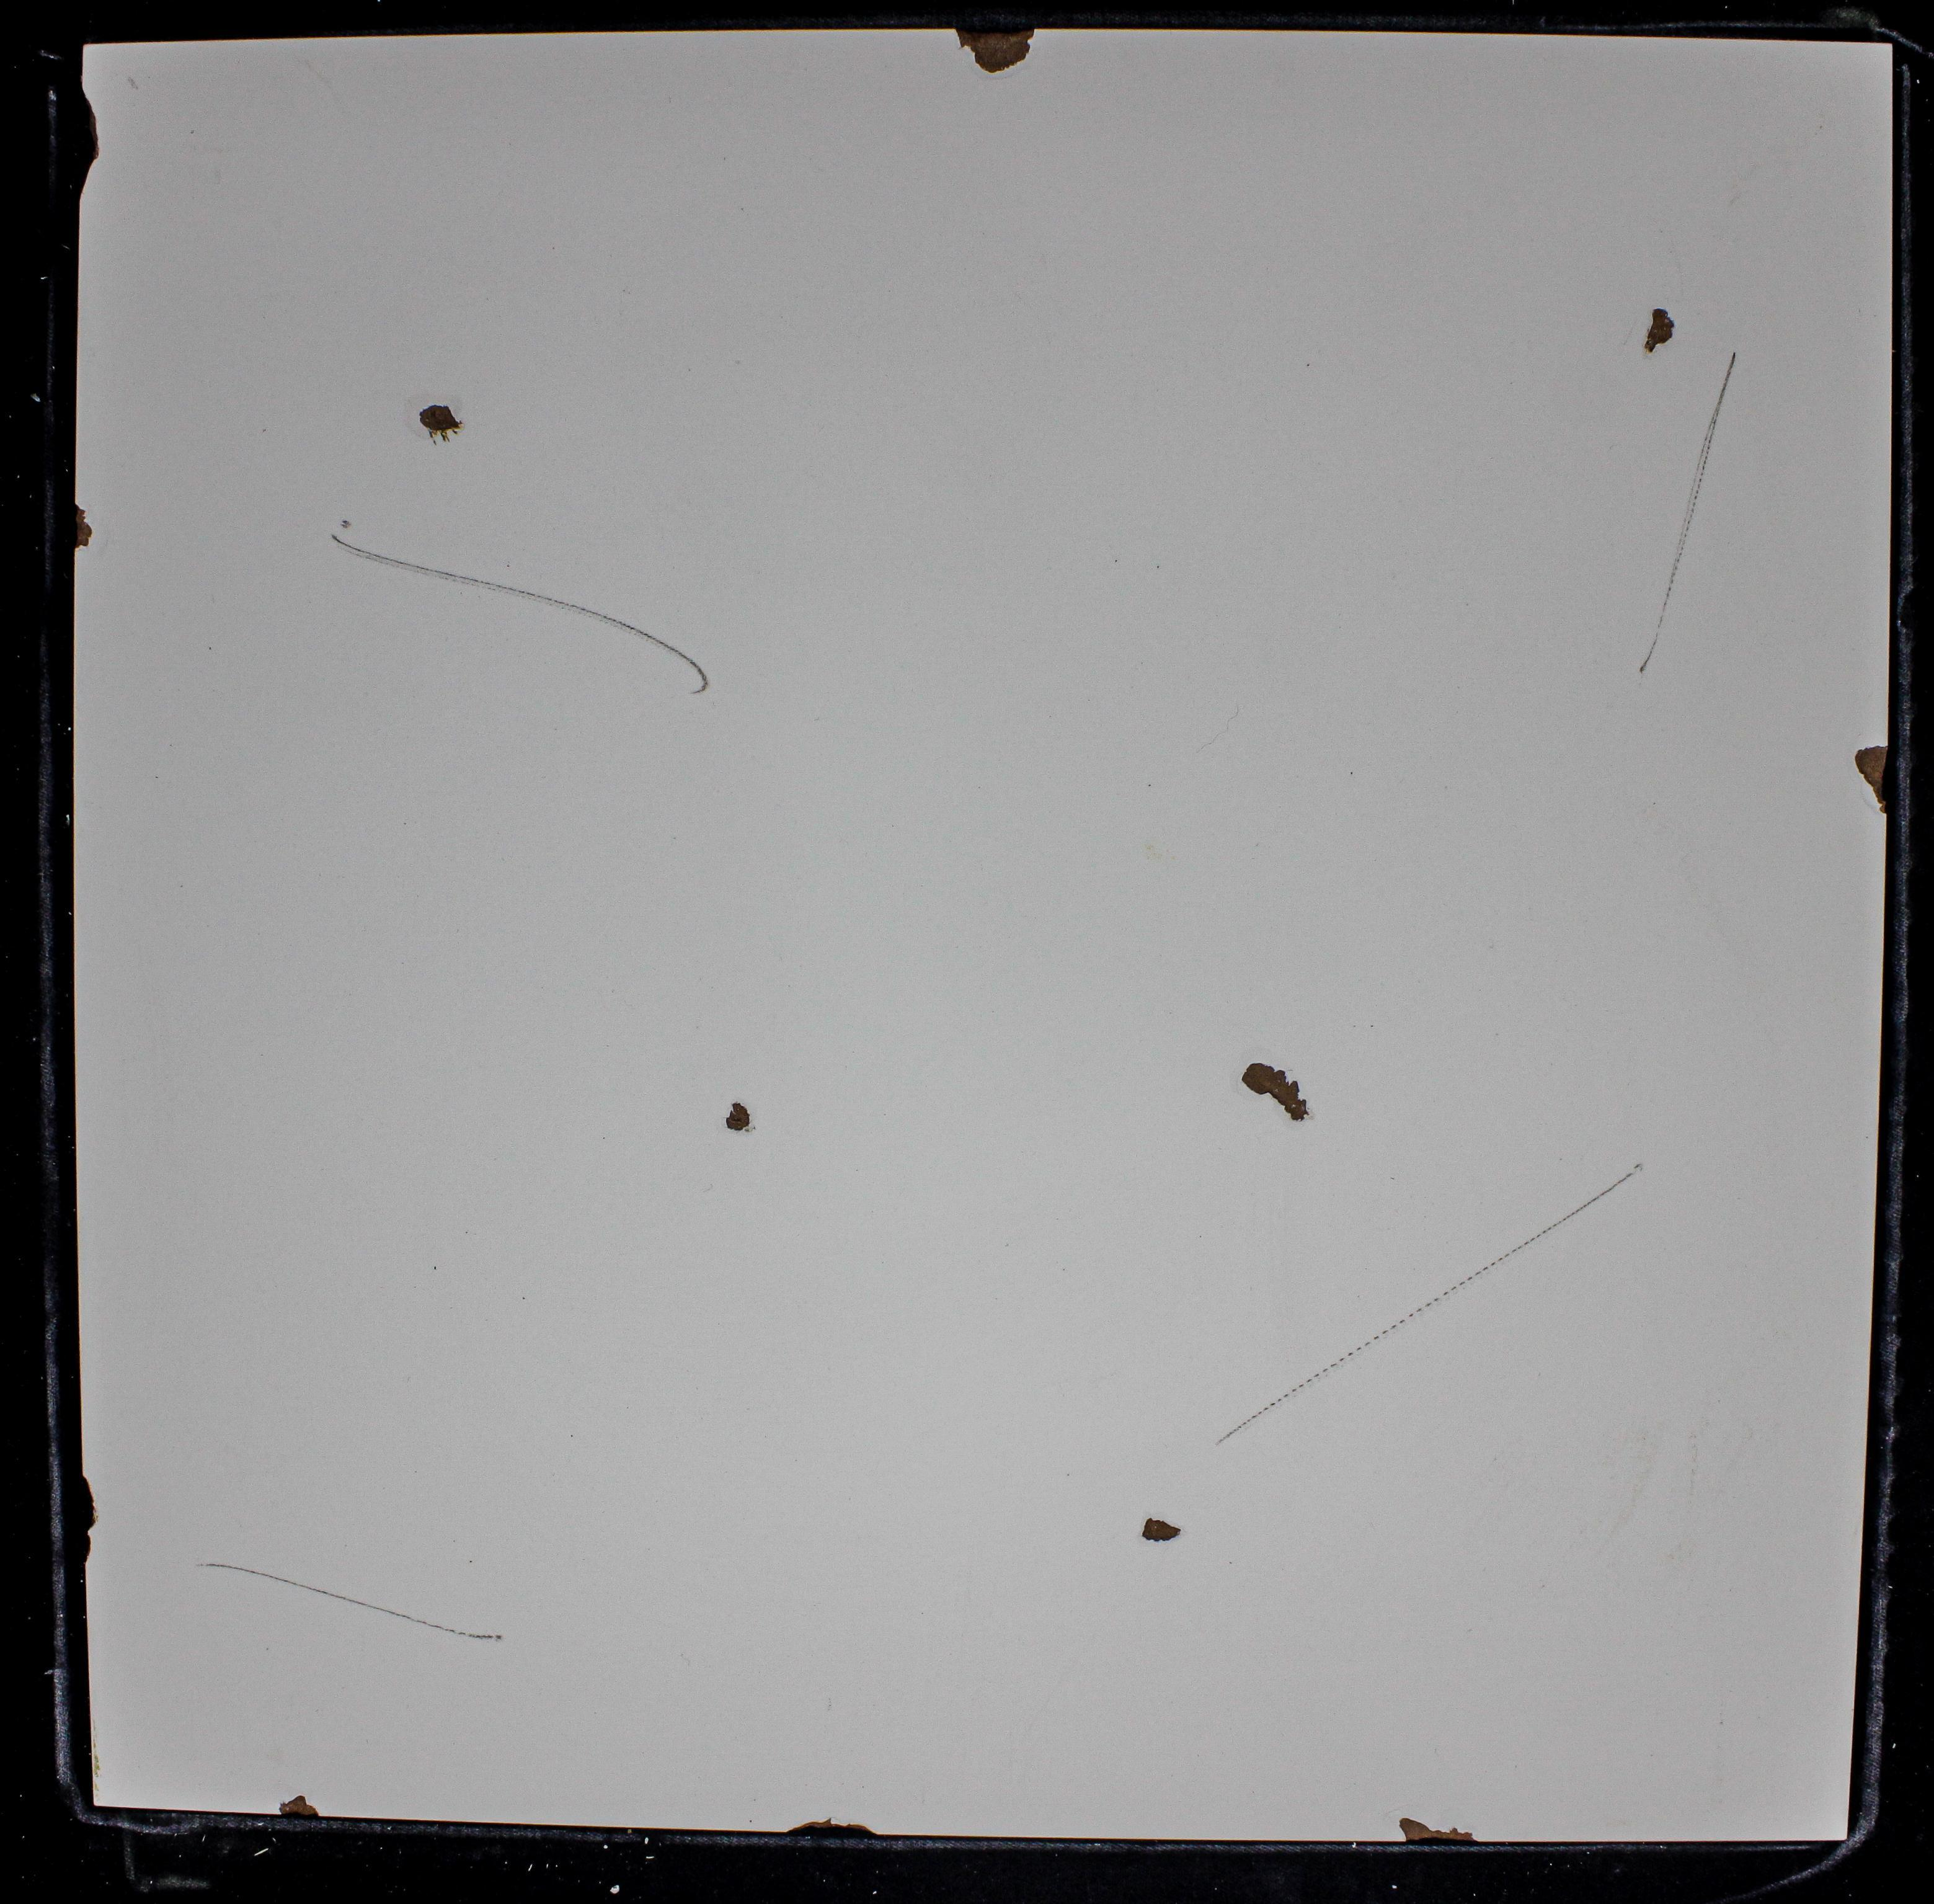edge-chipping: (954, 24, 1038, 75), (1852, 743, 1890, 814), (78, 87, 99, 201), (1399, 1819, 1479, 1841), (787, 1817, 875, 1834), (82, 1475, 99, 1562), (75, 500, 92, 551), (279, 1794, 319, 1815)
hole: (1240, 1060, 1311, 1123), (417, 401, 464, 446), (1645, 309, 1676, 354), (1142, 1517, 1181, 1543), (725, 1102, 752, 1132)
line: (1210, 1159, 1646, 1449), (326, 534, 713, 694), (1638, 345, 1742, 685), (202, 1545, 506, 1642)
